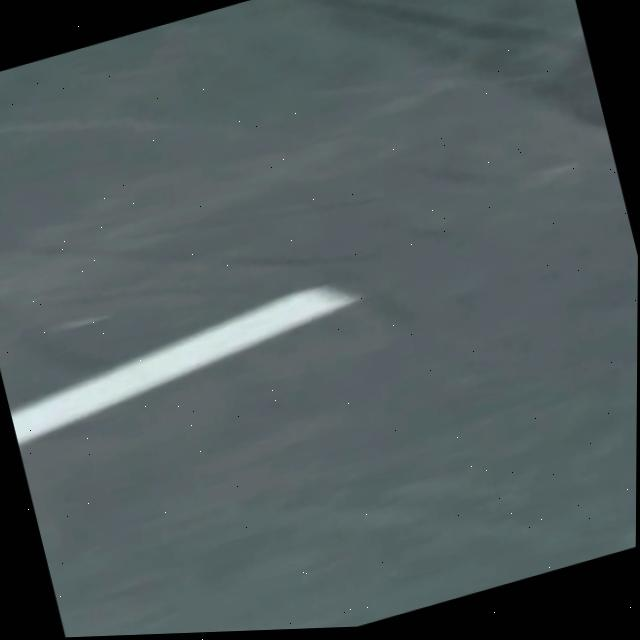center: (10, 286, 359, 445)
